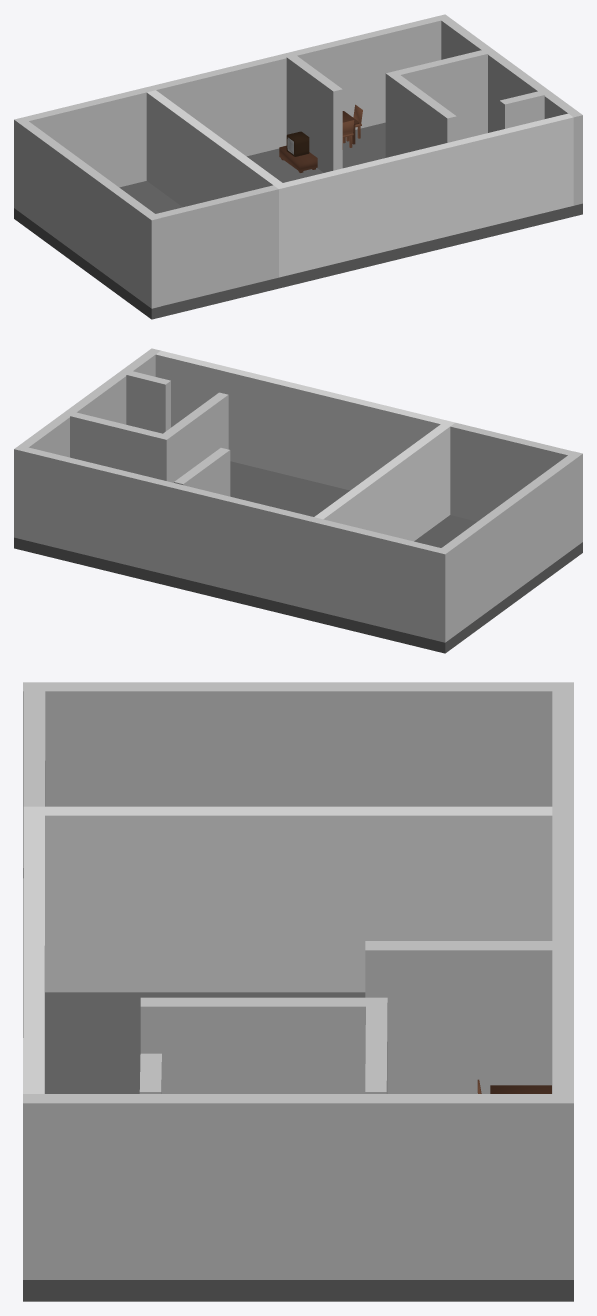
File: house.glb
3 views of the same model, one above another, from view 1: azimuth 30°, elevation 25°; view 2: azimuth 150°, elevation 25°; view 3: azimuth 270°, elevation 25° (orthographic). The views are drawn at different scales.
Parts seen in each view (by area): view 1: Cube.001, Cube.003, Cube.009, Cube.004, Floor, Cube.008, Cube.002, Cube.010, Cube.007, Cube.006, Cube.005, TV Stand (+1 smaller); view 2: Cube.003, Cube.001, Cube.009, Floor, Cube.008, Cube.004, Cube.002, Cube.010, Cube.006, Cube.005, Cube.007; view 3: Cube.010, Cube.008, Cube.009, Cube.007, Floor, Cube.006, Cube.003, Cube.001, Cube.004, Cube.002, Cube.005.
Boxes of the visible parts, x1,y1,x2,y2 form: Cube.001: [283, 113, 573, 275]; Cube.003: [14, 14, 449, 211]; Cube.009: [19, 121, 160, 308]; Cube.004: [156, 185, 278, 306]; Floor: [14, 122, 582, 319]; Cube.008: [146, 90, 287, 277]; Cube.002: [385, 50, 487, 157]; Cube.010: [441, 18, 582, 205]; Cube.007: [286, 55, 342, 172]; Cube.006: [391, 75, 456, 156]; Cube.005: [499, 91, 544, 129]; TV Stand: [279, 145, 317, 172]; Cube.003: [14, 445, 450, 642]; Cube.001: [155, 350, 445, 490]; Cube.009: [441, 451, 582, 638]; Floor: [14, 461, 582, 653]; Cube.008: [314, 420, 454, 541]; Cube.004: [450, 422, 572, 521]; Cube.002: [70, 412, 171, 482]; Cube.010: [19, 348, 160, 457]; Cube.006: [163, 392, 228, 482]; Cube.005: [126, 371, 170, 433]; Cube.007: [174, 448, 230, 496]; Cube.010: [23, 1094, 552, 1279]; Cube.008: [23, 806, 552, 992]; Cube.009: [23, 682, 552, 867]; Cube.007: [365, 941, 552, 1093]; Floor: [23, 868, 573, 1301]; Cube.006: [140, 997, 365, 1093]; Cube.003: [552, 682, 573, 1279]; Cube.001: [23, 815, 44, 1093]; Cube.004: [23, 691, 45, 806]; Cube.002: [365, 997, 387, 1093]; Cube.005: [139, 1053, 161, 1093].
Size of the model in its own units: 14.46 by 3.21 by 8.
2 materials, 2 textured.
